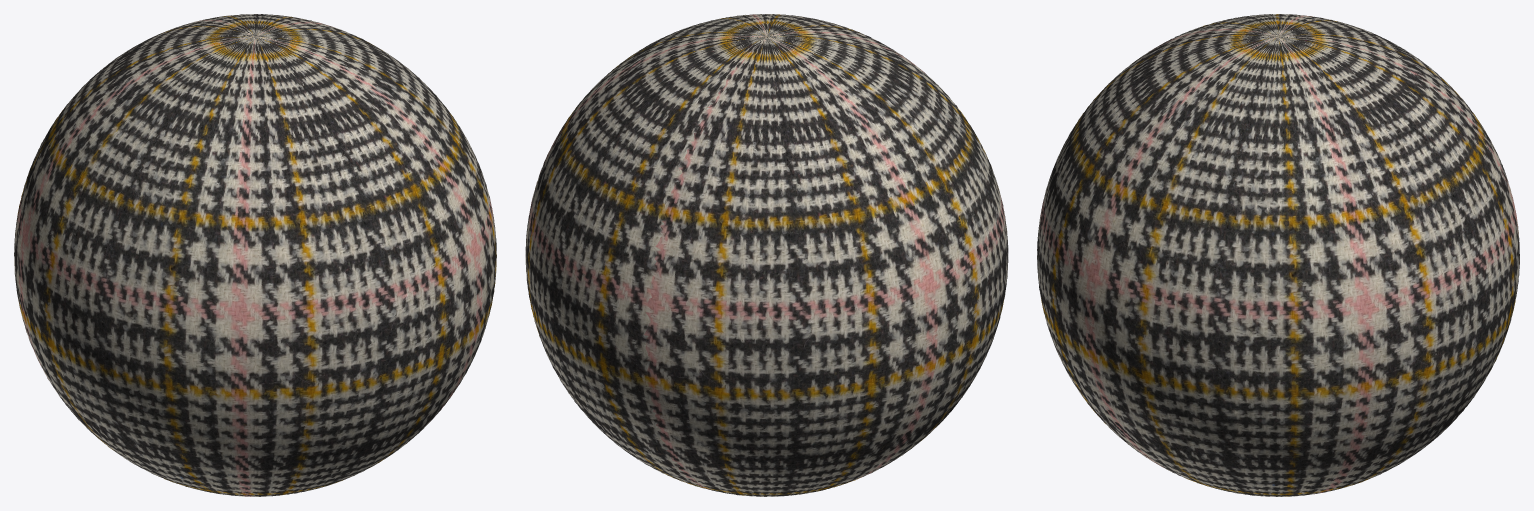
File: wool_boucle_1k.gltf
The picture shows the model from 3 angles, left to right: view 1: azimuth 30°, elevation 25°; view 2: azimuth 150°, elevation 25°; view 3: azimuth 270°, elevation 25°; orthographic projection.
Visible parts, largest first — view 1: sphere_gltf; view 2: sphere_gltf; view 3: sphere_gltf.
Part boxes in pixels (x1=…): sphere_gltf: x1=14, y1=14, x2=496, y2=496; sphere_gltf: x1=525, y1=14, x2=1008, y2=496; sphere_gltf: x1=1037, y1=14, x2=1519, y2=496.
Size of the model in its own units: 0.3901 by 0.3903 by 0.3903.
1 material, 1 textured.
